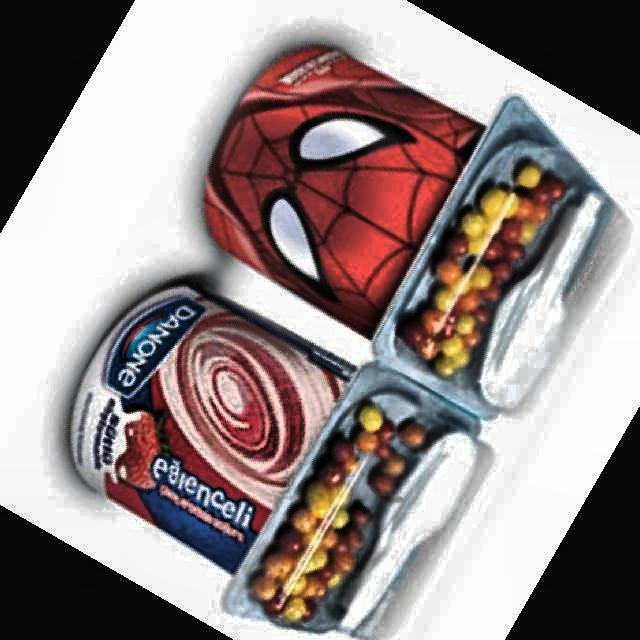plastic: (206, 46, 608, 409), (71, 283, 477, 636)
